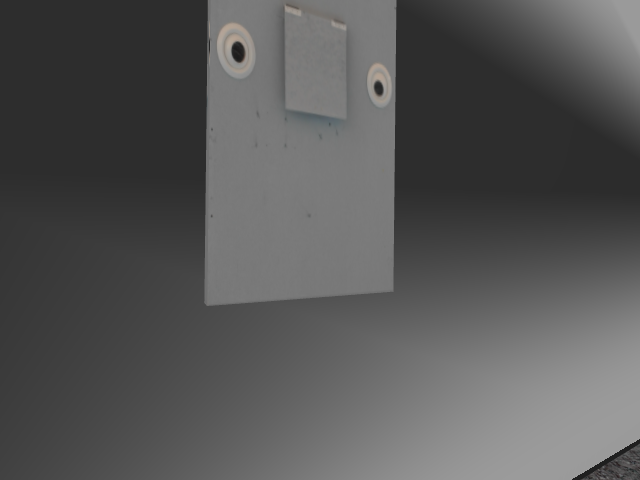facade: (209, 1, 394, 123)
